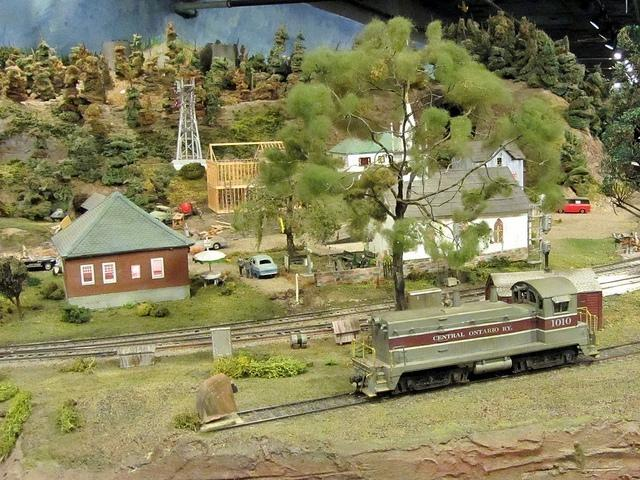car: (250, 255, 278, 280), (18, 257, 58, 272), (556, 197, 591, 214), (195, 235, 229, 251)
truck: (150, 201, 195, 225)
